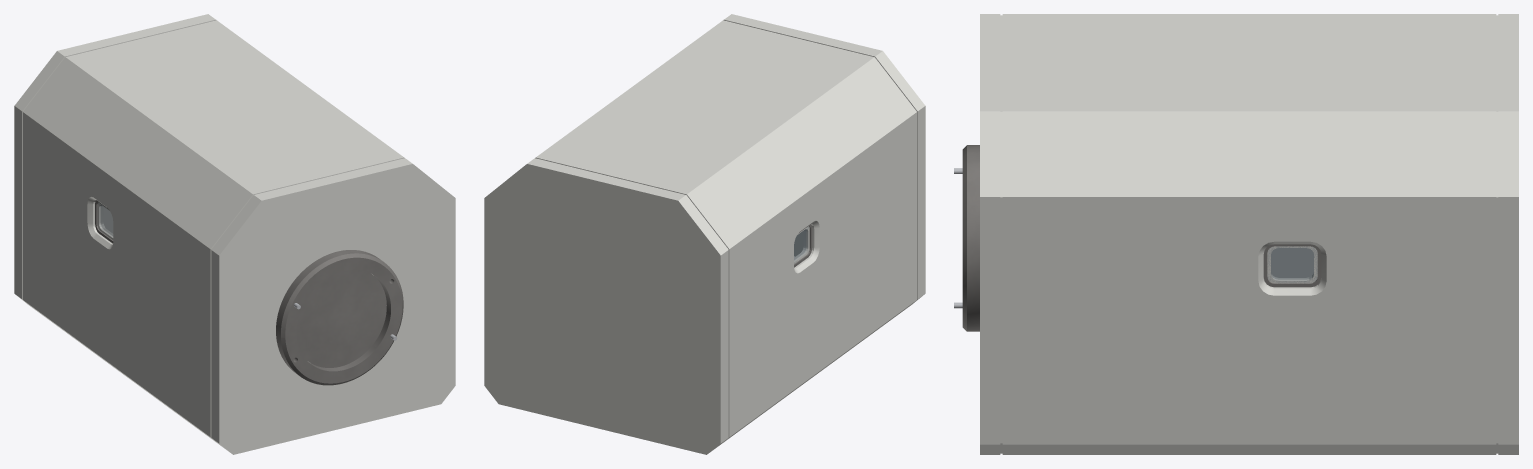
The model's file is ax_rover_04_rear_cabin_l.glb.
The picture shows the model from 3 angles, left to right: view 1: azimuth 30°, elevation 25°; view 2: azimuth 150°, elevation 25°; view 3: azimuth 270°, elevation 25°; orthographic projection. The views are drawn at different scales.
Visible parts, largest first — view 1: hub_shell, hatch_door_1, hub_ring_front, roof_radiator_panels; view 2: hub_shell, roof_radiator_panels; view 3: hub_shell, hub_ring_front, window_glass, roof_radiator_panels, window_frames.
Part boxes in pixels (x1,y1,x2,y2): hub_shell: (14, 14, 455, 454); hatch_door_1: (296, 270, 386, 367); hub_ring_front: (276, 250, 403, 385); roof_radiator_panels: (110, 34, 357, 179); hub_shell: (484, 14, 925, 454); roof_radiator_panels: (578, 35, 831, 179); hub_shell: (980, 14, 1518, 454); hub_ring_front: (962, 145, 979, 331); window_glass: (1268, 246, 1316, 282); roof_radiator_panels: (1024, 35, 1475, 89); window_frames: (1263, 244, 1321, 287).
Bounding box in the file's own units: 2.5 × 2.56 × 3.93.
Materials: 4 (2 with a texture image).
